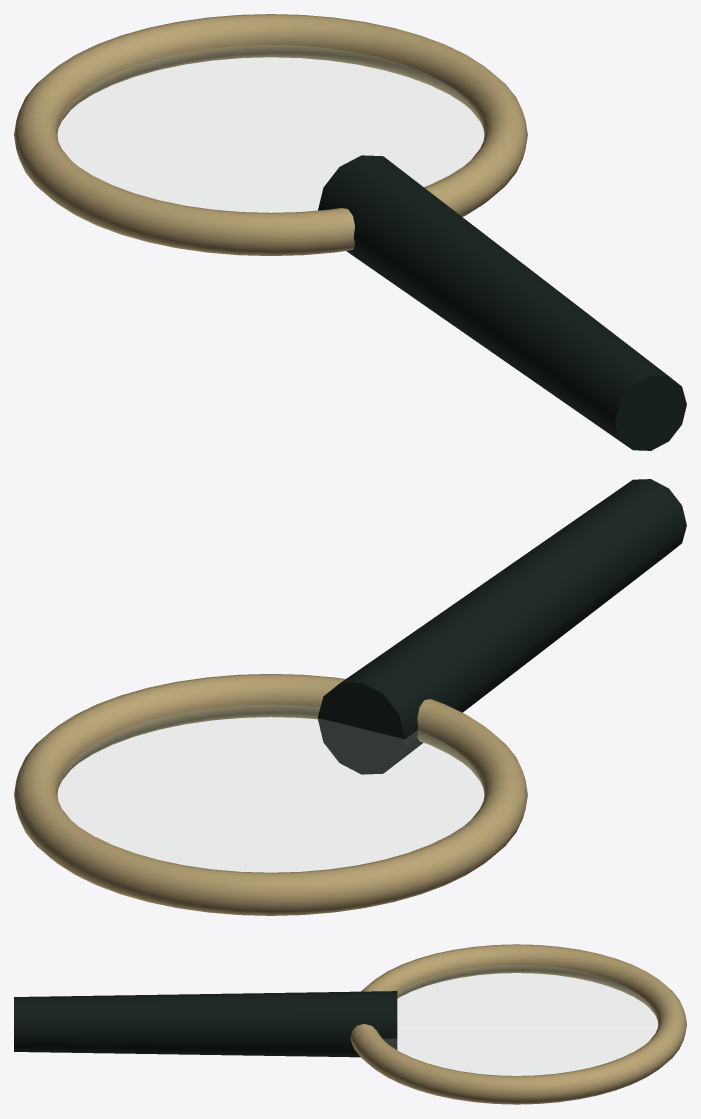
File: magnifier.glb
3 views of the same model, one above another, from view 1: azimuth 30°, elevation 25°; view 2: azimuth 150°, elevation 25°; view 3: azimuth 270°, elevation 25° (orthographic). The views are drawn at different scales.
Visible parts, largest first — view 1: magnifier; view 2: magnifier; view 3: magnifier.
Part boxes in pixels (x1,y1,x2,y2): magnifier: (14,14,686,450); magnifier: (14,479,686,915); magnifier: (14,944,686,1104).
Bounding box in the file's own units: 0.284 × 0.056 × 0.562.
